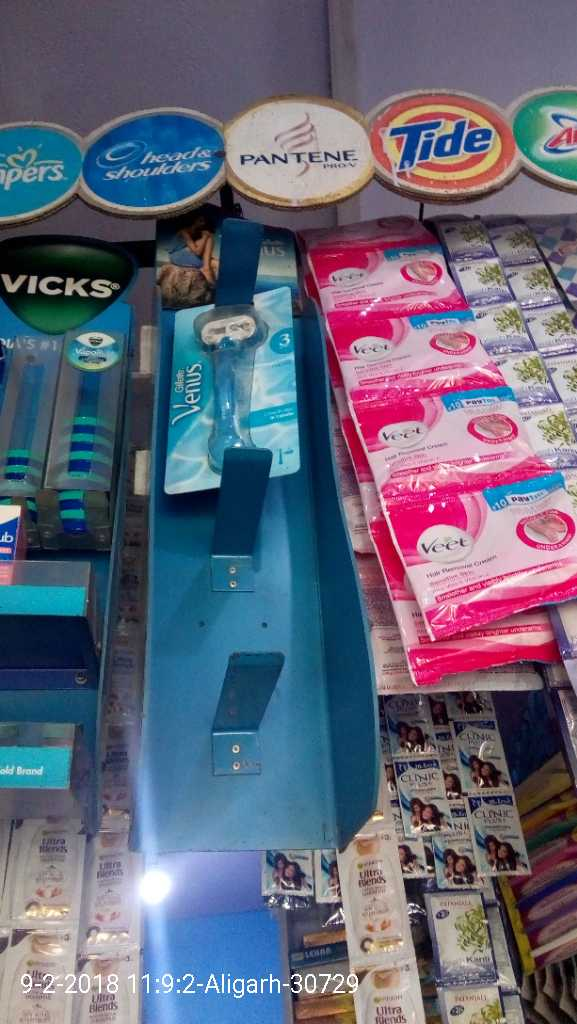beauty: (165, 296, 304, 477)
pharmacy: (46, 410, 110, 549)
